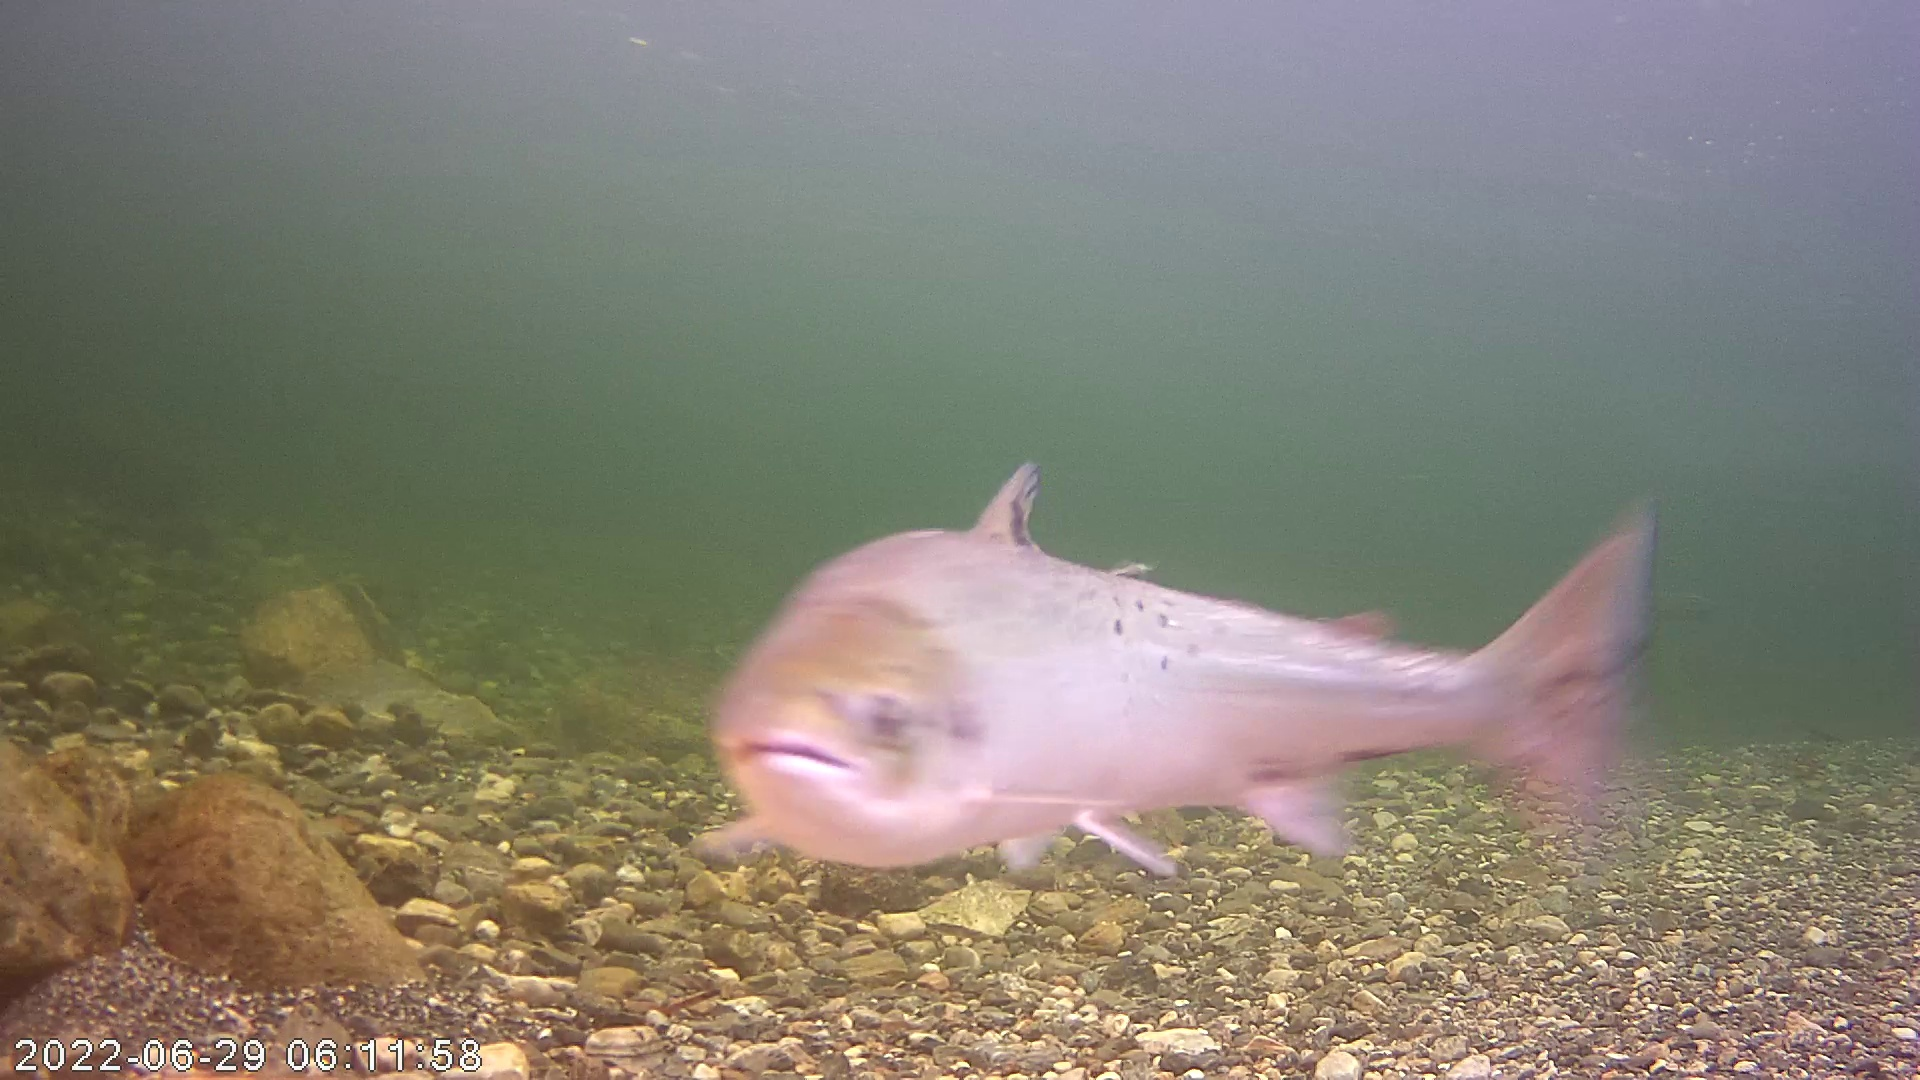salmon: (698, 425, 1668, 891)
